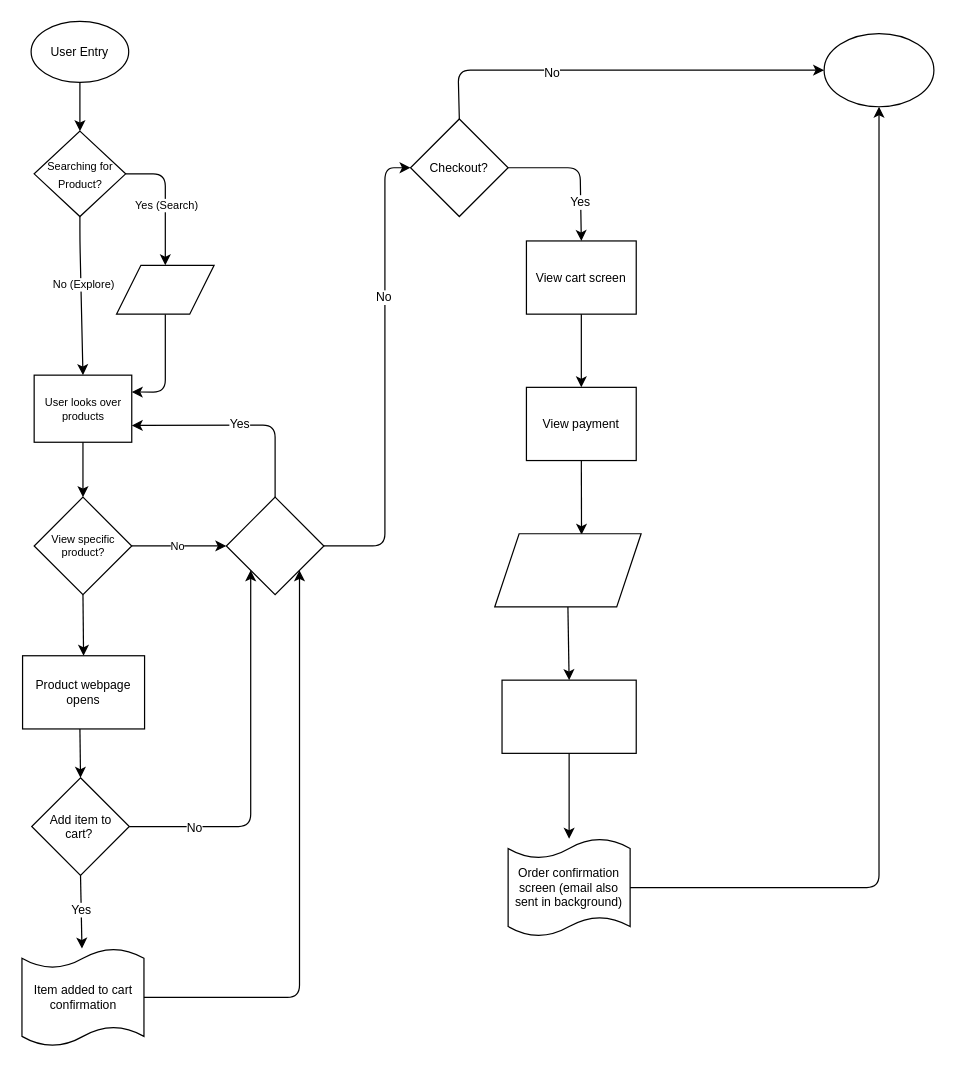
Some shapes in this 955 by 1068 pixel diagram are drawn without their labels. The centre of each missing label's shape, as x and y in pixels:
"Continue Shopping?" belongs at pixel 274 545.
"Input payment information" belongs at pixel 567 570.
"Search Input" belongs at pixel 164 289.
"User leaves site" belongs at pixel 878 69.
"User pays/ payment is processed" belongs at pixel 568 716.
